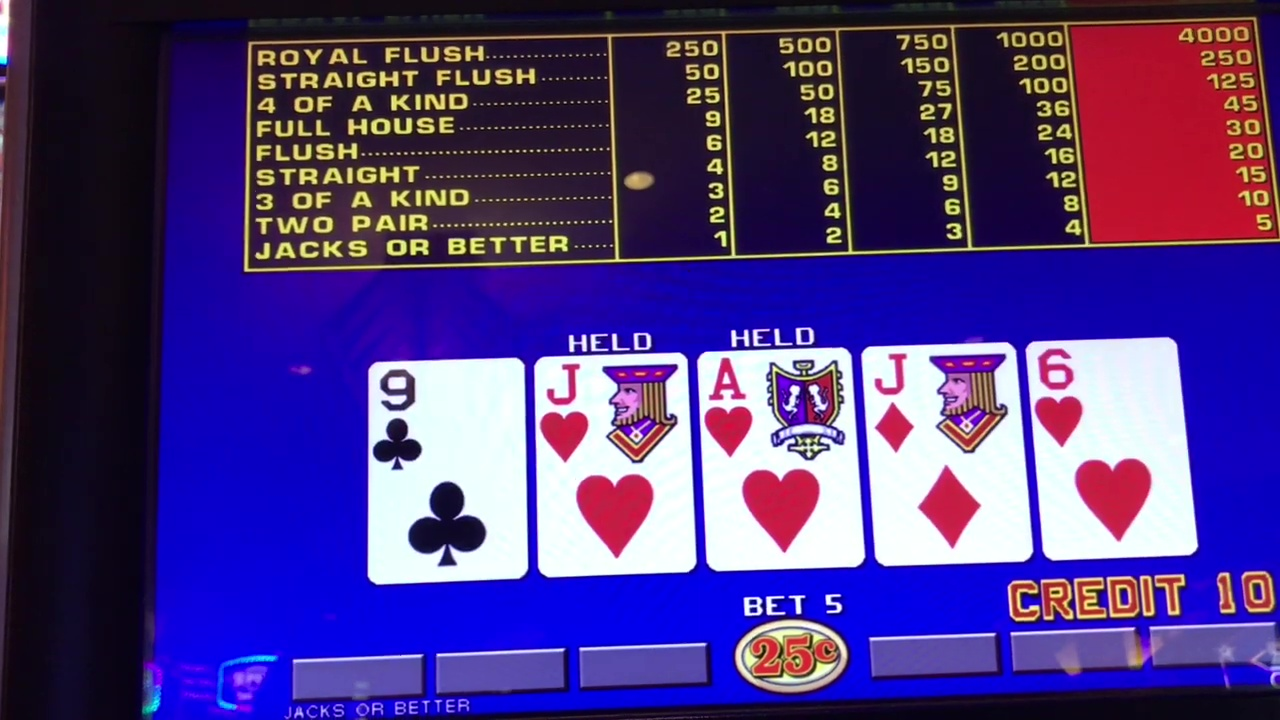C9: (374, 358, 510, 580)
DJ: (878, 346, 1016, 563)
H6: (1037, 342, 1180, 555)
HA: (702, 352, 850, 566)
HJ: (541, 355, 688, 573)
